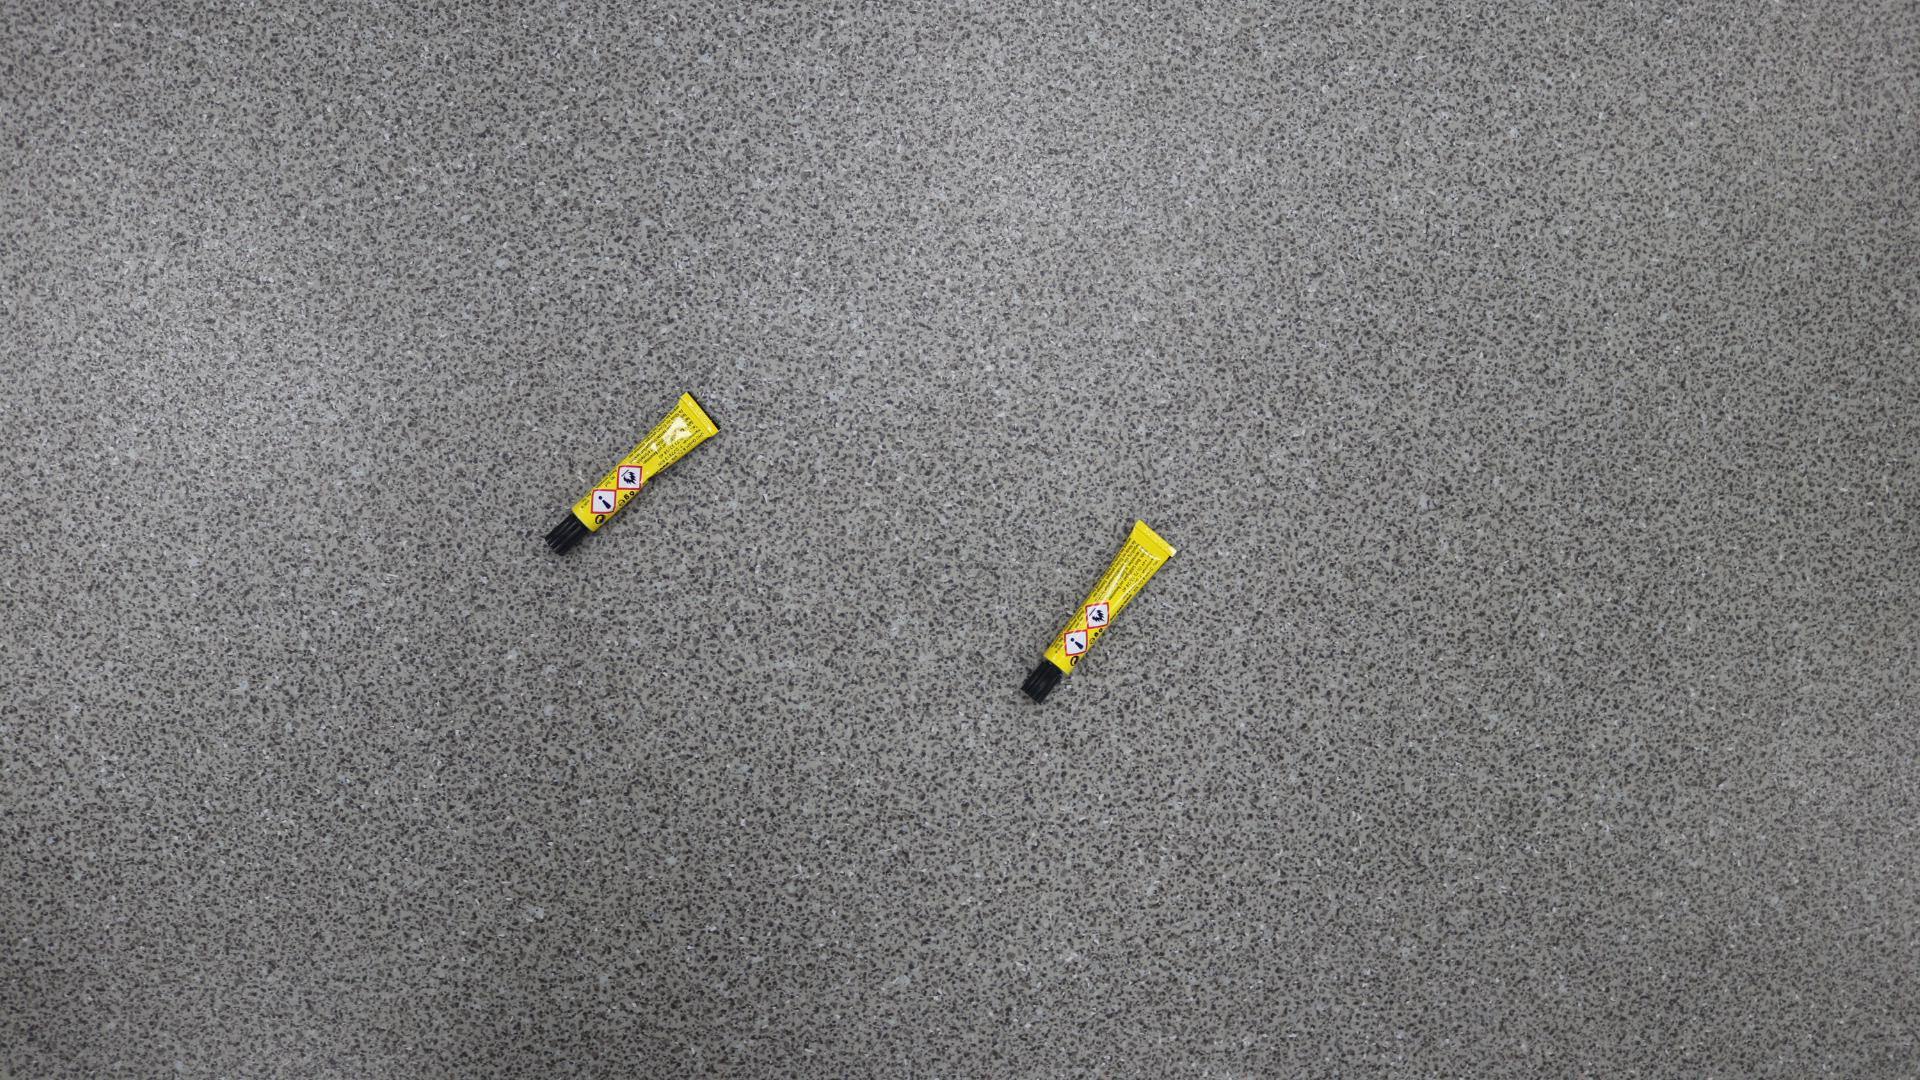Head: (1040, 680, 1045, 685), (564, 533, 568, 538)
Tail: (699, 411, 704, 417), (1154, 536, 1159, 541)
Tube: (544, 391, 723, 557), (1020, 519, 1176, 705)
